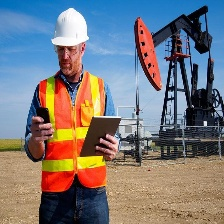helmet: (50, 6, 90, 54)
person: (31, 5, 113, 223)
vest: (34, 70, 112, 188)
